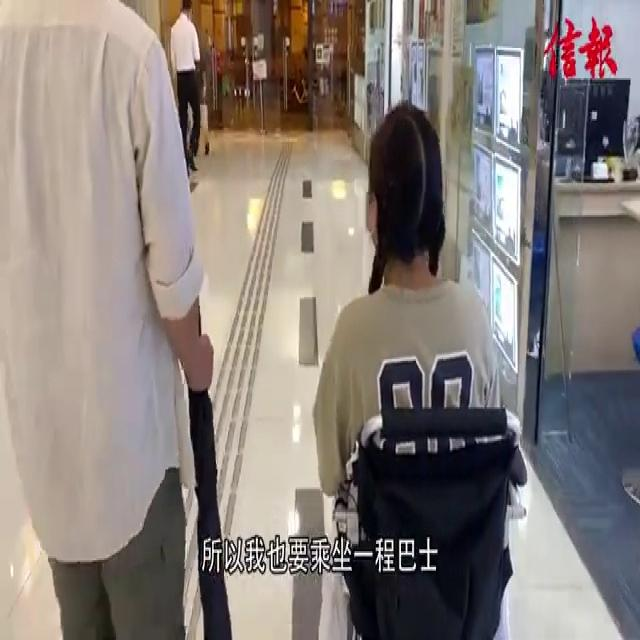wheelchairs: (331, 400, 535, 640)
